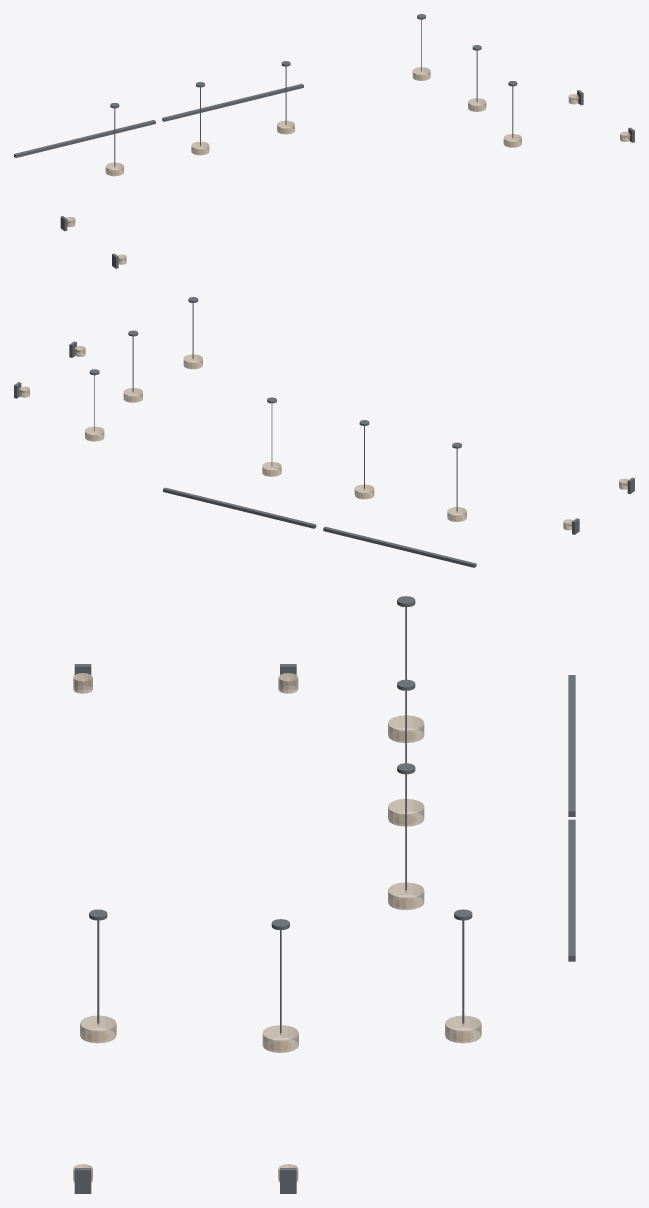
Rendered from bar_lighting.glb.
3 renders of one model, top to bottom at view 1: azimuth 30°, elevation 25°; view 2: azimuth 150°, elevation 25°; view 3: azimuth 270°, elevation 25°, orthographic. The views are drawn at different scales.
Visible parts, largest first — view 1: rear_linear_1, rear_linear_2; view 2: rear_linear_2, rear_linear_1; view 3: rear_linear_2, rear_linear_1, lounge_pendant_2_shade, pendant_3_shade, lounge_pendant_1_shade, lounge_pendant_3_shade, pendant_1_shade, pendant_2_shade.
Part boxes in pixels (x1,y1,x2,y2): rear_linear_1: (14, 120, 155, 157); rear_linear_2: (162, 83, 303, 121); rear_linear_2: (163, 487, 316, 528); rear_linear_1: (323, 526, 476, 567); rear_linear_2: (568, 819, 575, 961); rear_linear_1: (568, 675, 575, 816); lounge_pendant_2_shade: (262, 1025, 298, 1052); pendant_3_shade: (388, 882, 424, 910); lounge_pendant_1_shade: (445, 1015, 481, 1043); lounge_pendant_3_shade: (80, 1015, 116, 1043); pendant_1_shade: (388, 715, 424, 742); pendant_2_shade: (388, 799, 424, 826).
Size of the model in its own units: 15.76 by 2.43 by 6.61.
